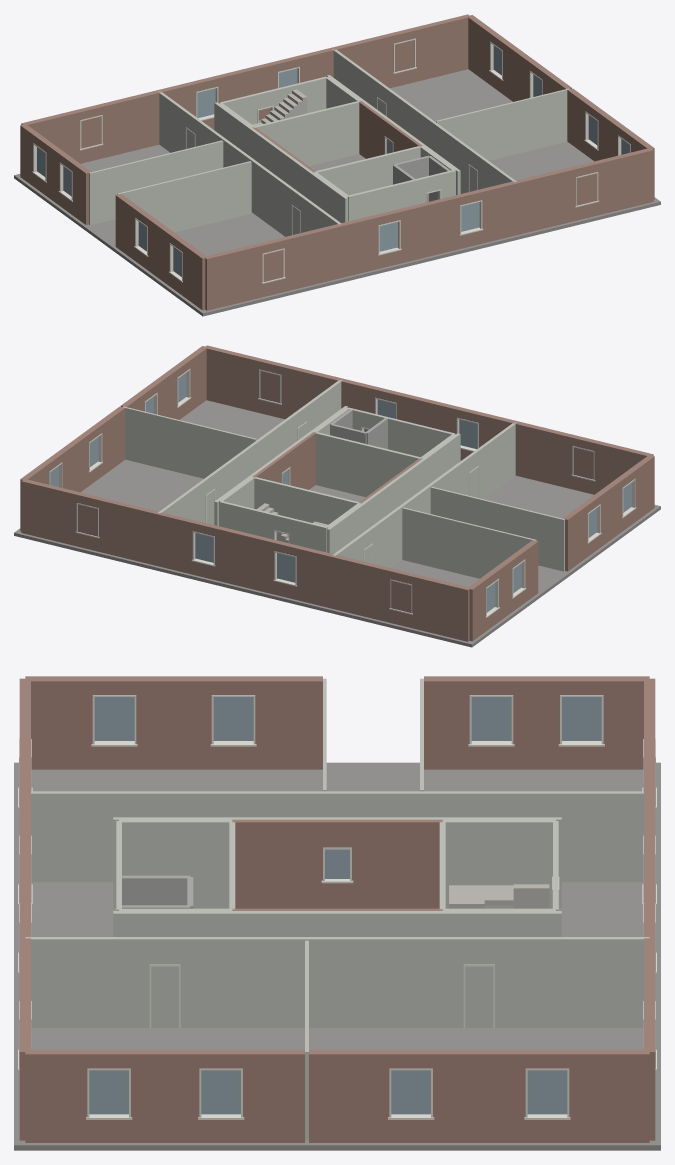
The model's file is floor_b1.glb.
The picture shows the model from 3 angles, top to bottom: view 1: azimuth 30°, elevation 25°; view 2: azimuth 150°, elevation 25°; view 3: azimuth 270°, elevation 25°; orthographic projection. The views are drawn at different scales.
Parts seen in each view (by area): view 1: B1_walls_brick-col, B1_walls-col, B1_slabs-col, B1_trim, B1_glazing-col, B1_walls_conc-col, B1_stairs; view 2: B1_walls_brick-col, B1_walls-col, B1_slabs-col, B1_trim, B1_glazing-col, B1_walls_conc-col; view 3: B1_walls_brick-col, B1_walls-col, B1_slabs-col, B1_glazing-col, B1_trim, B1_walls_conc-col, B1_stairs.
Part boxes in pixels (x1,y1,x2,y2): B1_walls_brick-col: (20, 14, 654, 310); B1_walls-col: (89, 49, 569, 236); B1_slabs-col: (14, 69, 660, 316); B1_trim: (32, 38, 630, 283); B1_glazing-col: (37, 45, 629, 276); B1_walls_conc-col: (393, 155, 451, 202); B1_stairs: (252, 89, 307, 126); B1_walls_brick-col: (20, 345, 654, 641); B1_walls-col: (123, 379, 564, 578); B1_slabs-col: (14, 400, 660, 647); B1_trim: (49, 369, 636, 617); B1_glazing-col: (50, 372, 631, 612); B1_walls_conc-col: (330, 409, 387, 449); B1_walls_brick-col: (19, 676, 655, 1142); B1_walls-col: (25, 678, 649, 1140); B1_slabs-col: (14, 762, 660, 1150); B1_glazing-col: (89, 697, 601, 1114); B1_trim: (18, 695, 656, 1119); B1_walls_conc-col: (121, 875, 193, 908); B1_stairs: (449, 884, 549, 908).
Size of what is drawn, in the model's own units: 28 by 3.2 by 20.
